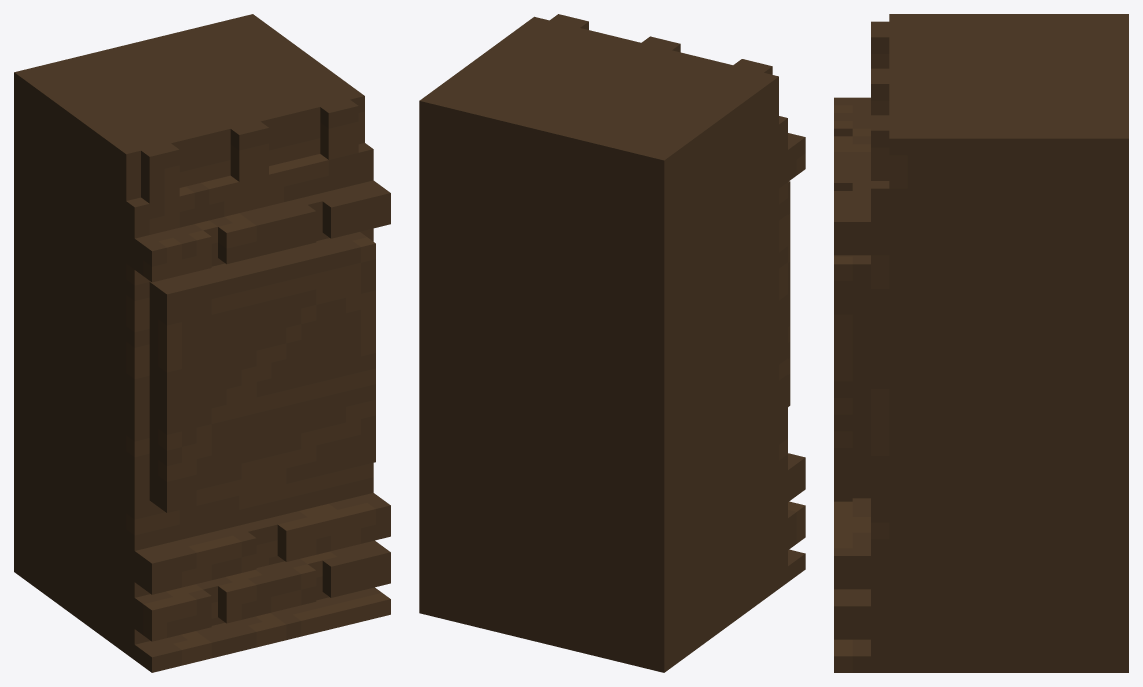
Rendered from wall.obj.
3 views of the same model, side by side, from view 1: azimuth 30°, elevation 25°; view 2: azimuth 150°, elevation 25°; view 3: azimuth 270°, elevation 25° (orthographic). The views are drawn at different scales.
Visible parts, largest first — view 1: wall; view 2: wall; view 3: wall.
Part boxes in pixels (box(x1,y1,x2,y2)): wall: box(14, 14, 390, 672); wall: box(419, 14, 805, 672); wall: box(834, 14, 1128, 672).
Bounding box in the file's own units: 1.6 × 3.2 × 1.6.
1 material, 1 textured.
